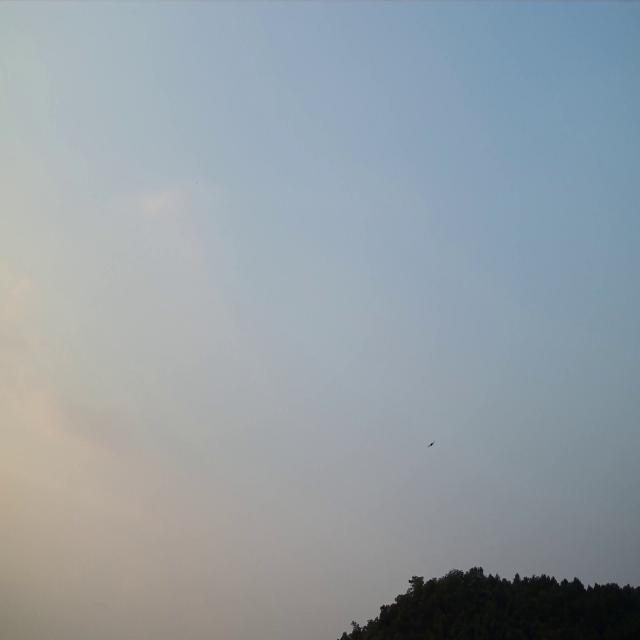UAV: (428, 441, 436, 448)
